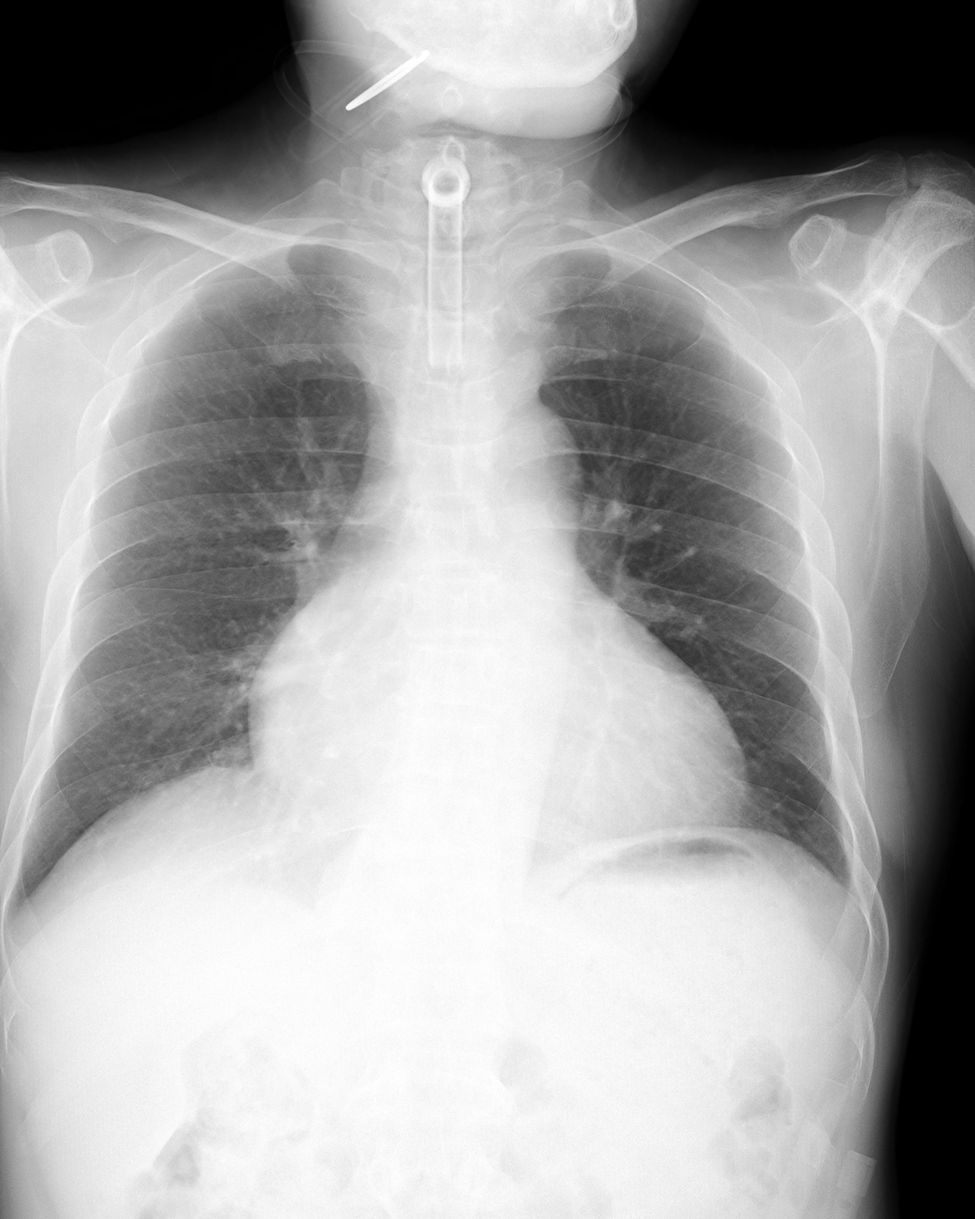Aortic enlargement: (471, 395, 584, 565)
Cardiomegaly: (244, 643, 749, 829)
